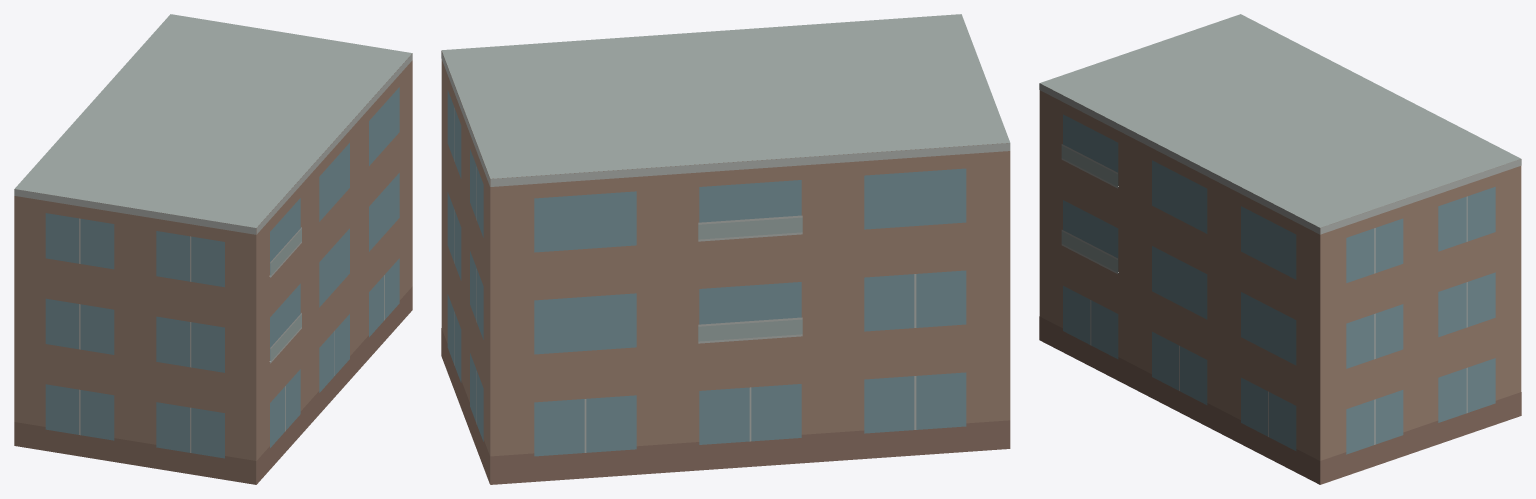
Rendered from survey-upis-32722018.glb.
3 views of the same model, side by side, from view 1: azimuth 30°, elevation 25°; view 2: azimuth 150°, elevation 25°; view 3: azimuth 270°, elevation 25° (orthographic). The views are drawn at different scales.
Visible parts, largest first — view 1: survey-upis-32722018.tmp; view 2: survey-upis-32722018.tmp; view 3: survey-upis-32722018.tmp.
Boxes of the visible parts, x1,y1,x2,y2 form: survey-upis-32722018.tmp: (14, 14, 412, 484); survey-upis-32722018.tmp: (441, 14, 1010, 484); survey-upis-32722018.tmp: (1039, 14, 1521, 484).
Size of the model in its own units: 16.33 by 9.15 by 15.56.
